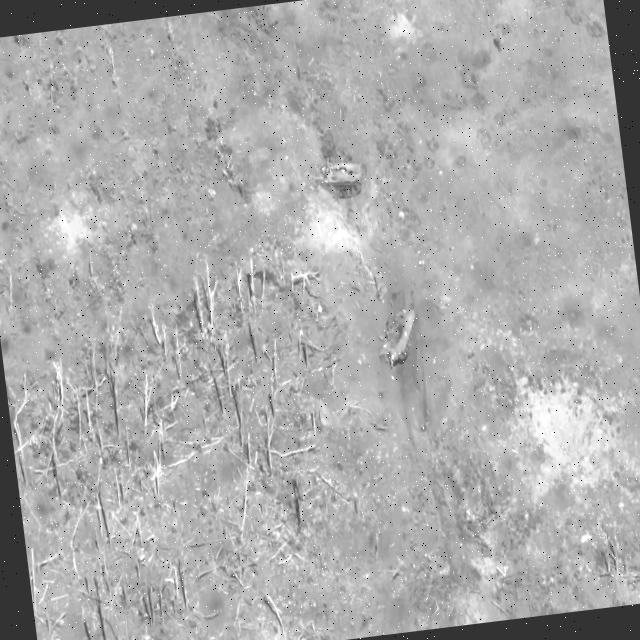AIFV: (315, 153, 368, 206)
MBT: (373, 305, 426, 371)
